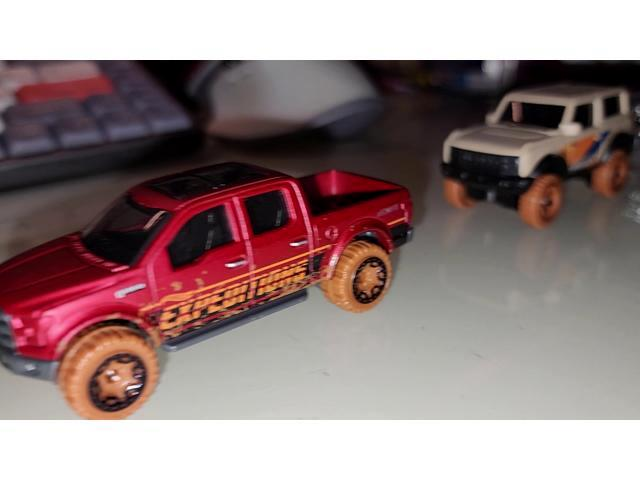toy-car: (0, 158, 415, 420), (439, 80, 638, 232)
